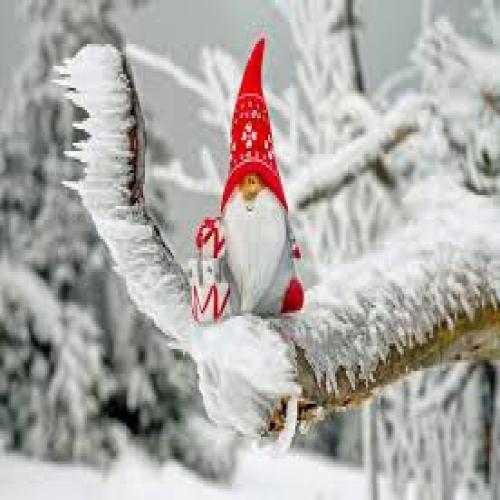Santa: (196, 37, 304, 316)
